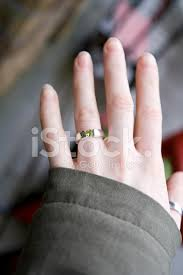hand: (24, 34, 181, 242)
